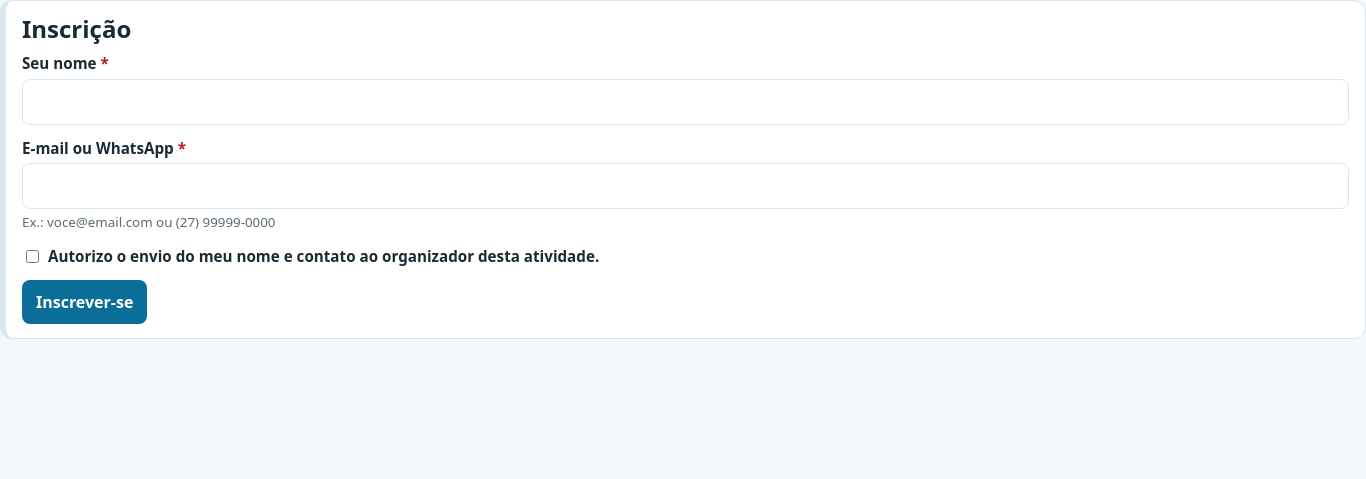
FormularioInscricao › inscreve e mostra a confirmação com o contador atualizado
Type "Bia Souza" into the field labelled "Seu nome *" at (686, 102), box top-left (22, 79), bottom-right (1349, 125)
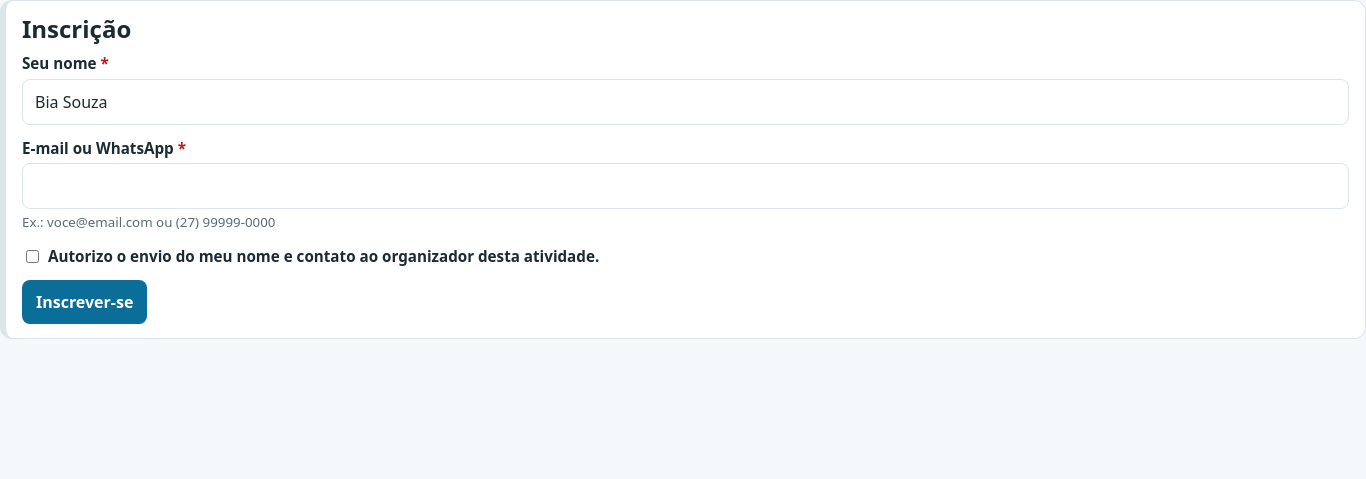
Type "(27) 99999-1234" into the field labelled "E-mail ou WhatsApp *" at (686, 186), box top-left (22, 163), bottom-right (1349, 209)
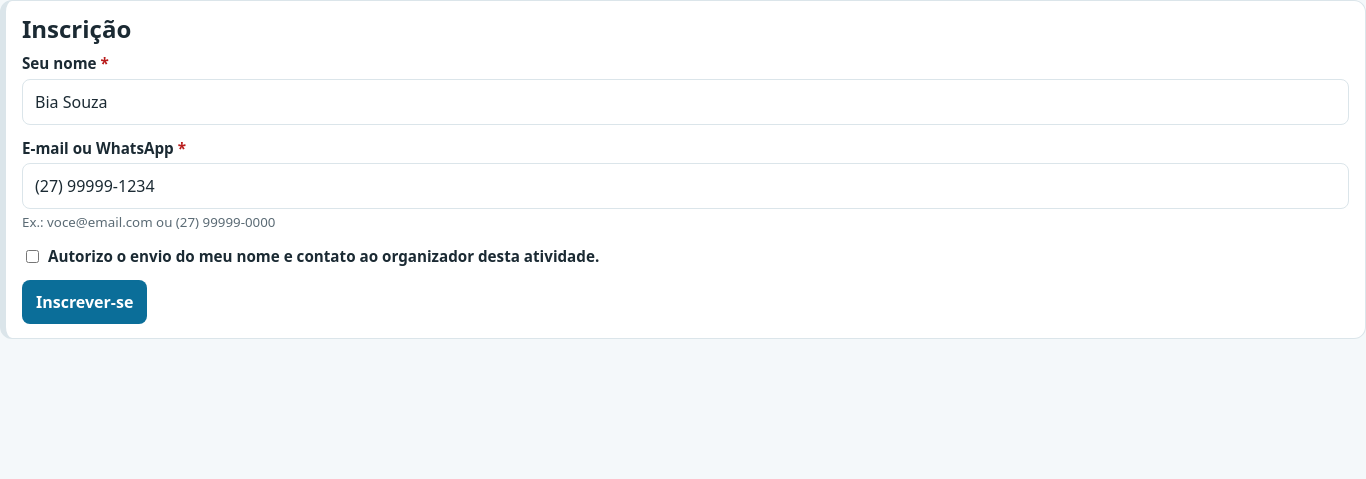
Click the checkbox labelled "Autorizo o envio" at (32, 257), box top-left (26, 250), bottom-right (39, 263)
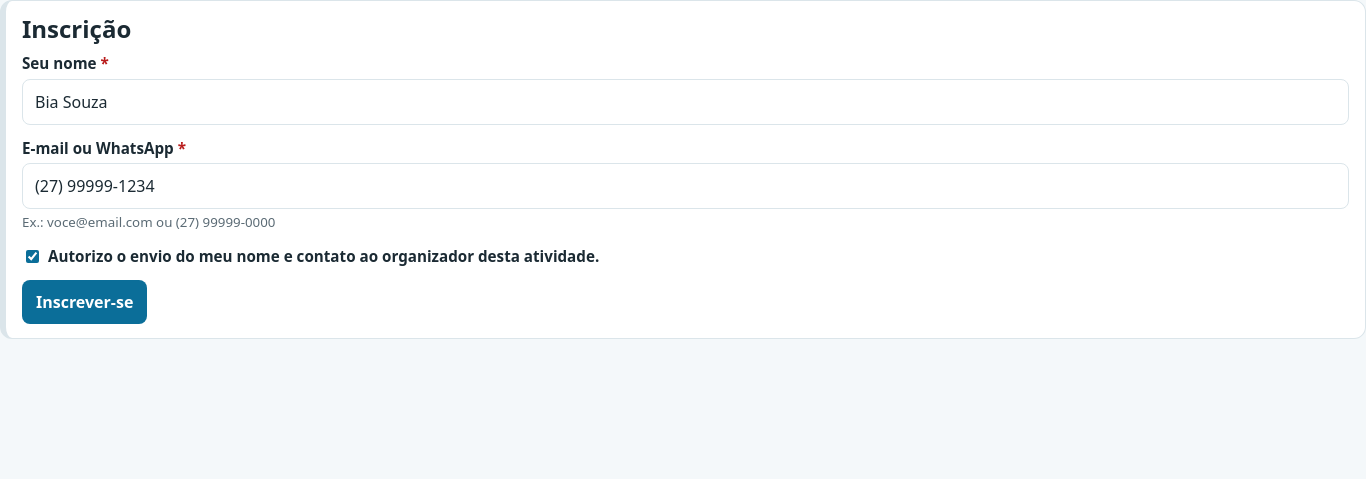
Click the button "Inscrever-se" at (85, 302), box top-left (22, 280), bottom-right (147, 324)
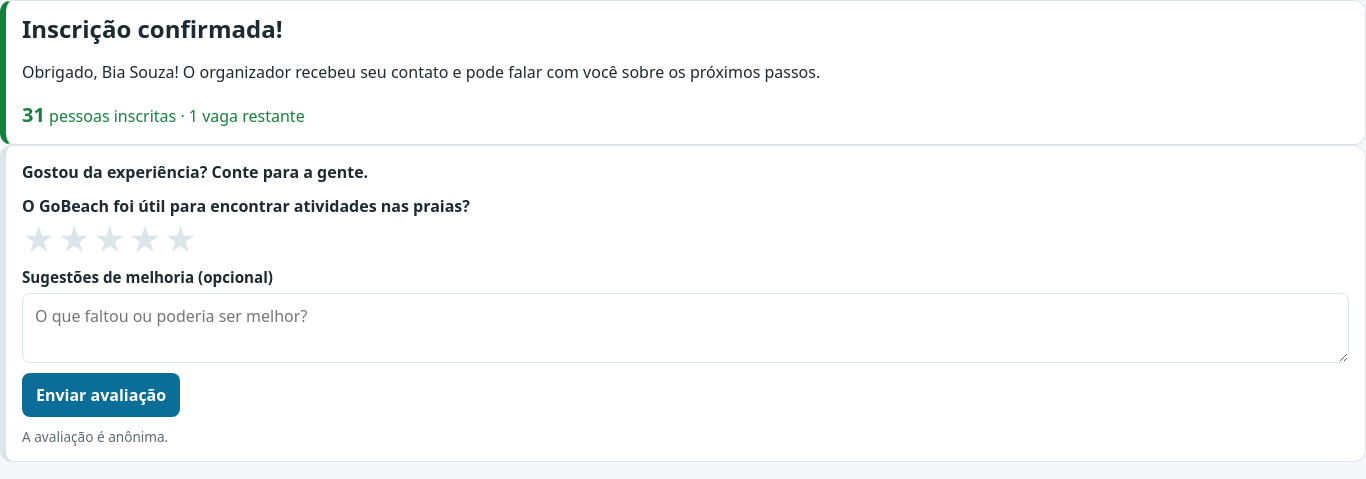
Expected: the heading "Inscrição confirmada!" is shown, top-left (22, 12), bottom-right (283, 45)
Expected: the text "Obrigado, Bia Souza!" is shown, top-left (22, 61), bottom-right (820, 83)
Expected: the text "31" reads "31 pessoas inscritas · 1 vaga restante", top-left (22, 101), bottom-right (305, 128)
